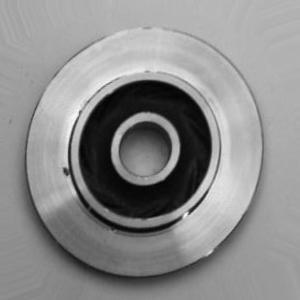defect: (56, 100, 95, 184)
